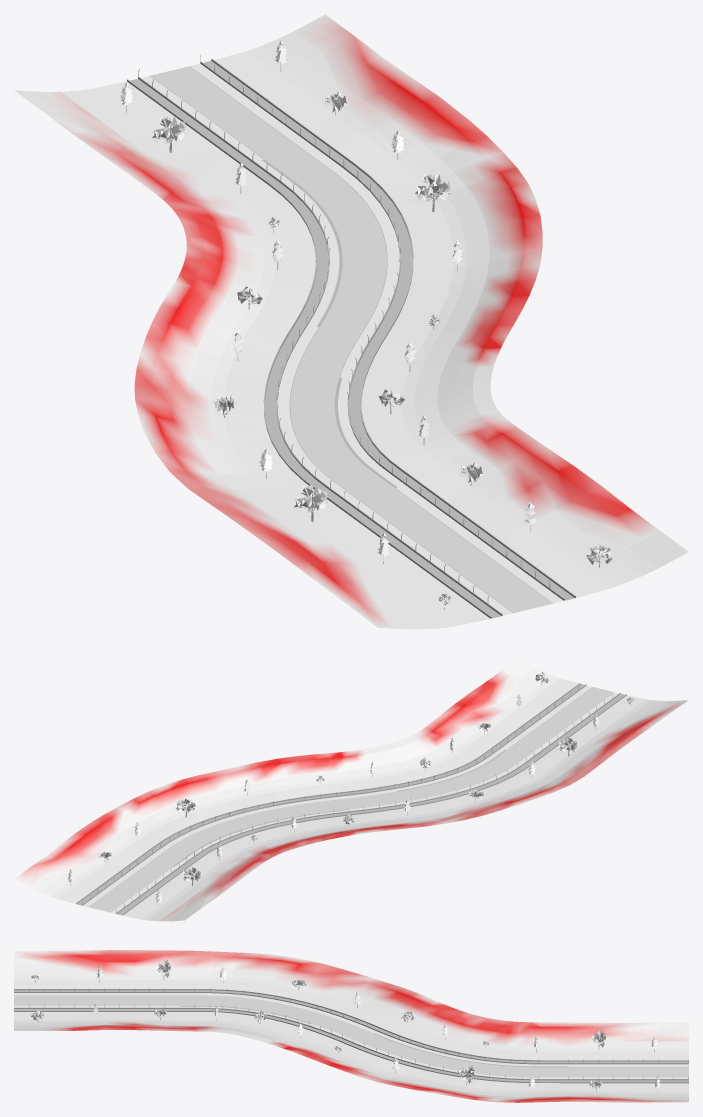
3 views of the same model, one above another, from view 1: azimuth 30°, elevation 25°; view 2: azimuth 150°, elevation 25°; view 3: azimuth 270°, elevation 25° (orthographic). The views are drawn at different scales.
Parts seen in each view (by area): view 1: Grass, Road, Track, Trees; view 2: Grass, Road, Track, Trees; view 3: Grass, Track, Road, Trees.
Part boxes in pixels (<box>): Grass: <box>14,14,688,629</box>; Road: <box>150,66,552,612</box>; Track: <box>127,54,575,618</box>; Trees: <box>120,40,612,609</box>; Grass: <box>14,658,688,921</box>; Road: <box>89,687,613,912</box>; Track: <box>76,683,626,915</box>; Trees: <box>68,672,633,905</box>; Grass: <box>14,950,688,1102</box>; Track: <box>14,988,688,1083</box>; Road: <box>14,996,688,1077</box>; Trees: <box>31,960,660,1091</box>.
Size of what is drawn, in the model's own units: 26500 by 1702 by 50000.
